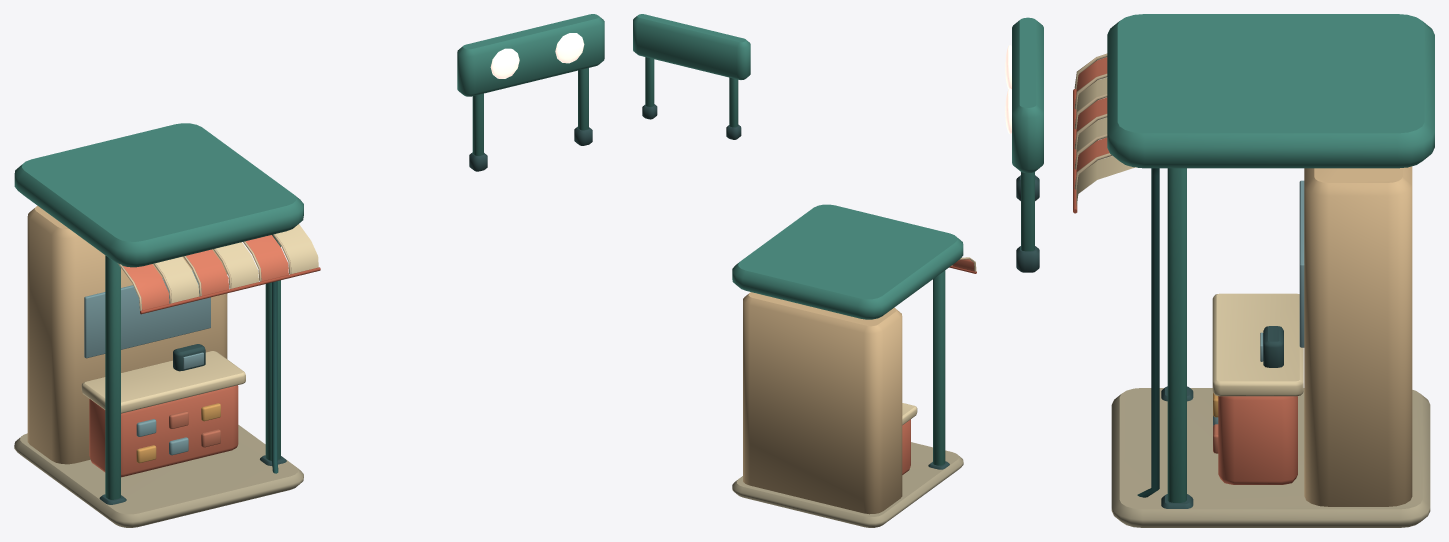
The model's file is tropical_market_4.glb.
The picture shows the model from 3 angles, left to right: view 1: azimuth 30°, elevation 25°; view 2: azimuth 150°, elevation 25°; view 3: azimuth 270°, elevation 25°; orthographic projection. The views are drawn at different scales.
Parts seen in each view (by area): view 1: TropicalMarket4; view 2: TropicalMarket4; view 3: TropicalMarket4.
Boxes of the visible parts, x1,y1,x2,y2 form: TropicalMarket4: (14,14,604,527); TropicalMarket4: (633,14,976,527); TropicalMarket4: (1005,14,1434,527).
Bounding box in the file's own units: 5.58 × 5.11 × 3.34.
